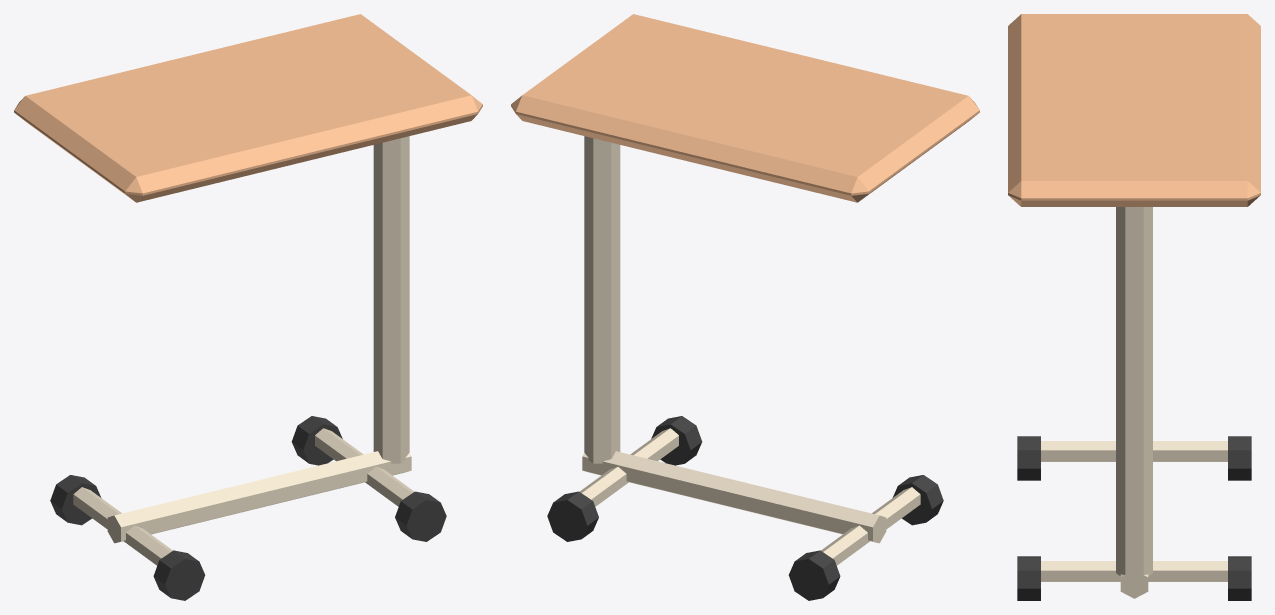
3 renders of one model, left to right at view 1: azimuth 30°, elevation 25°; view 2: azimuth 150°, elevation 25°; view 3: azimuth 270°, elevation 25°, orthographic. The views are drawn at different scales.
Parts seen in each view (by area): view 1: Table top, Side post, Base rail, Foot, Wheel.002, Wheel, Foot.001, Wheel.001, Wheel.003; view 2: Table top, Side post, Base rail, Foot, Wheel.003, Wheel.001, Foot.001, Wheel, Wheel.002; view 3: Table top, Side post, Foot.001, Foot, Wheel, Wheel.001, Wheel.002, Wheel.003, Base rail.
Part boxes in pixels (x1,y1,x2,y2): Table top: (14, 14, 482, 202); Side post: (373, 136, 409, 463); Base rail: (107, 451, 411, 543); Foot: (73, 487, 172, 565); Wheel.002: (395, 491, 446, 541); Wheel: (153, 550, 205, 600); Foot.001: (315, 428, 414, 506); Wheel.001: (50, 475, 101, 525); Wheel.003: (291, 416, 342, 465); Table top: (511, 14, 979, 202); Side post: (584, 136, 620, 463); Base rail: (582, 451, 886, 543); Foot: (821, 487, 920, 565); Wheel.003: (547, 491, 598, 541); Wheel.001: (788, 550, 840, 600); Foot.001: (579, 428, 678, 506); Wheel: (892, 475, 943, 525); Wheel.002: (651, 416, 702, 465); Table top: (1008, 14, 1260, 206); Side post: (1116, 207, 1152, 579); Foot.001: (1041, 561, 1227, 581); Foot: (1041, 441, 1227, 461); Wheel: (1017, 436, 1040, 480); Wheel.001: (1228, 436, 1251, 480); Wheel.002: (1017, 556, 1040, 600); Wheel.003: (1228, 556, 1251, 600); Base rail: (1120, 574, 1148, 598).
Size of the model in its own units: 80 by 92.75 by 48.
